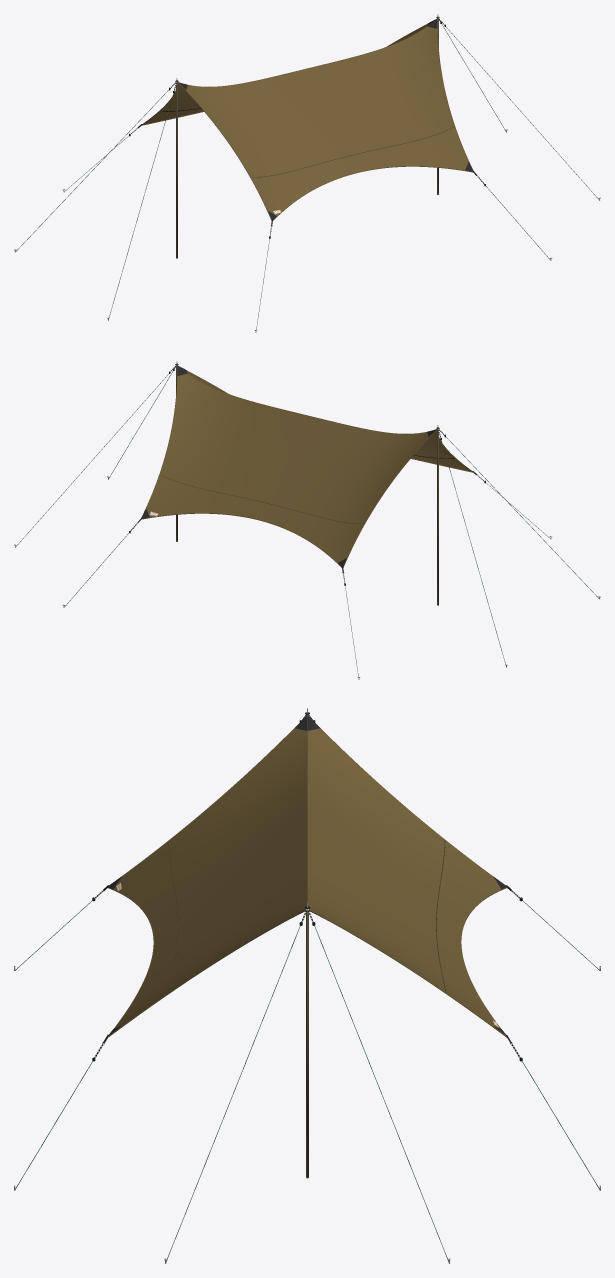
File: minimalworks-mango-shade-hexa-ex.glb
3 views of the same model, one above another, from view 1: azimuth 30°, elevation 25°; view 2: azimuth 150°, elevation 25°; view 3: azimuth 270°, elevation 25° (orthographic). The views are drawn at different scales.
Parts seen in each view (by area): view 1: minimalworks-mango-shade-hexa-ex-top, minimalworks-mango-shade-hexa-ex-hem, minimalworks-mango-shade-hexa-ex-guy, minimalworks-mango-shade-hexa-ex-pole; view 2: minimalworks-mango-shade-hexa-ex-top, minimalworks-mango-shade-hexa-ex-hem, minimalworks-mango-shade-hexa-ex-guy, minimalworks-mango-shade-hexa-ex-pole; view 3: minimalworks-mango-shade-hexa-ex-top, minimalworks-mango-shade-hexa-ex-hem, minimalworks-mango-shade-hexa-ex-guy, minimalworks-mango-shade-hexa-ex-pole.
Boxes of the visible parts, x1,y1,x2,y2 form: minimalworks-mango-shade-hexa-ex-top: (143, 23, 468, 215); minimalworks-mango-shade-hexa-ex-hem: (141, 19, 473, 220); minimalworks-mango-shade-hexa-ex-guy: (18, 24, 595, 327); minimalworks-mango-shade-hexa-ex-pole: (176, 18, 438, 258); minimalworks-mango-shade-hexa-ex-top: (146, 370, 471, 562); minimalworks-mango-shade-hexa-ex-hem: (141, 366, 473, 567); minimalworks-mango-shade-hexa-ex-guy: (19, 371, 596, 674); minimalworks-mango-shade-hexa-ex-pole: (176, 365, 438, 605); minimalworks-mango-shade-hexa-ex-top: (110, 728, 504, 1034); minimalworks-mango-shade-hexa-ex-hem: (107, 715, 507, 1037); minimalworks-mango-shade-hexa-ex-guy: (18, 900, 596, 1255); minimalworks-mango-shade-hexa-ex-pole: (306, 714, 308, 1178).
Bounding box in the file's own units: 7.02 × 2.46 × 4.74.
